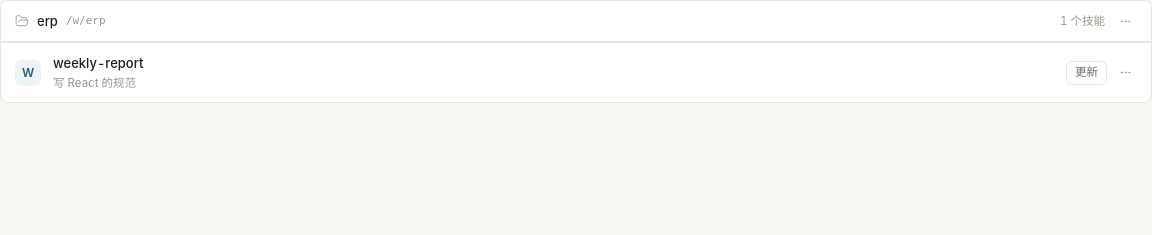
it: v7 任务 8:项目行事后改选工具 › K3(0.6.x):每个工具带项目内的落点路径,候选与「已关联但不在候选」两档都有
Expected: the text "weekly-report" is shown, [53,55,143,71]
Click the button with test id "prow-weekly-report-body".
click(98, 63)  # box [15,53,1054,92]
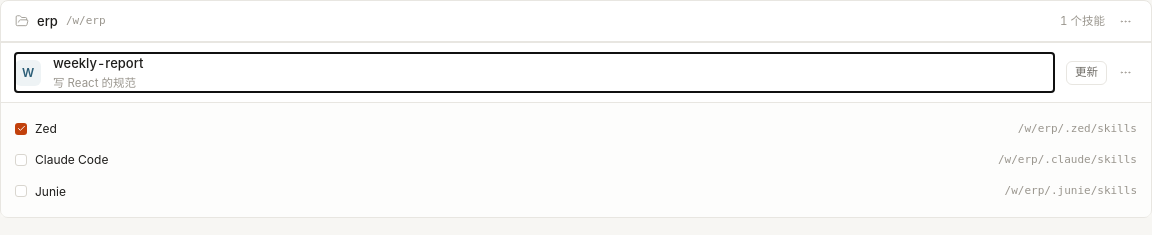
Expected: the checkbox labelled "Junie /w/erp/.junie/skills" is shown, [15,185,27,197]
Expected: the text "/w/erp/.claude/skills" is shown, [998,151,1137,169]
Expected: the text "/w/erp/.junie/skills" is shown, [1004,182,1137,200]
